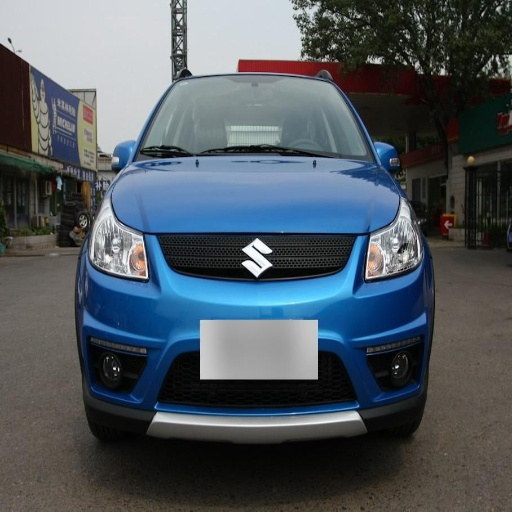front_bumper: (84, 232, 424, 442)
front_right_light: (87, 205, 149, 280)
hood: (113, 158, 400, 233)
